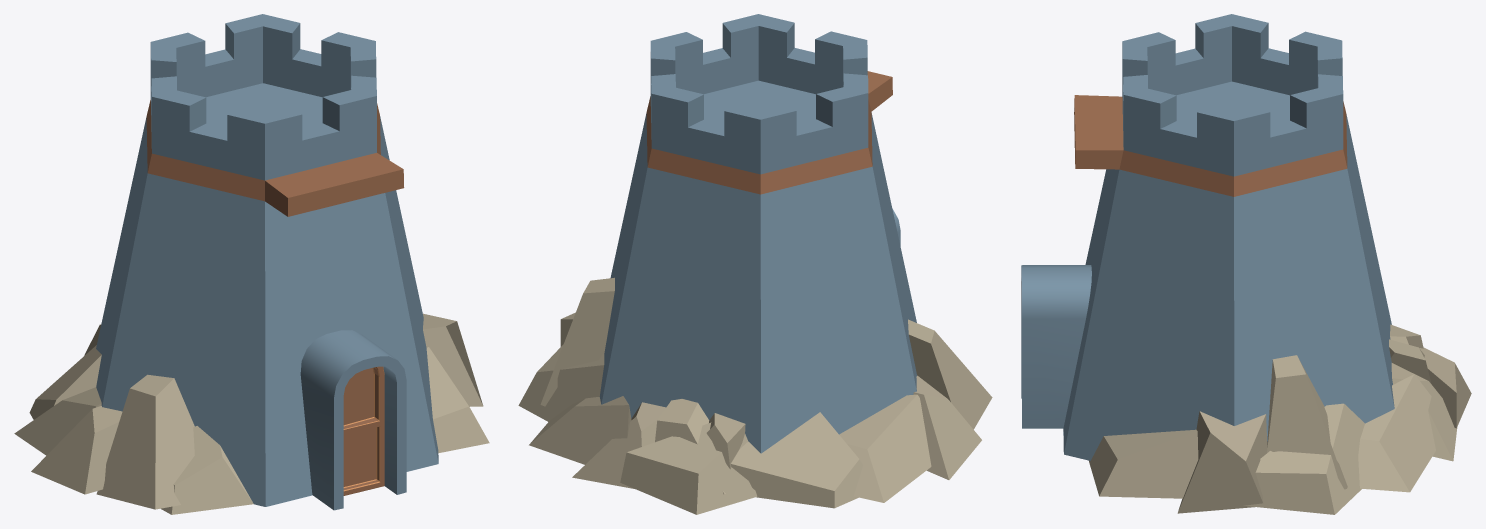
Rendered from Outpost_small.fbx.
3 renders of one model, left to right at view 1: azimuth 30°, elevation 25°; view 2: azimuth 150°, elevation 25°; view 3: azimuth 270°, elevation 25°, orthographic. The views are drawn at different scales.
Parts seen in each view (by area): view 1: Outpost Small; view 2: Outpost Small; view 3: Outpost Small.
Boxes of the visible parts, left/top/right/bottom form: Outpost Small: left=14, top=14, right=489, bottom=514; Outpost Small: left=518, top=14, right=992, bottom=514; Outpost Small: left=1021, top=14, right=1471, bottom=514.
Size of the model in its own units: 608 by 509 by 585.
